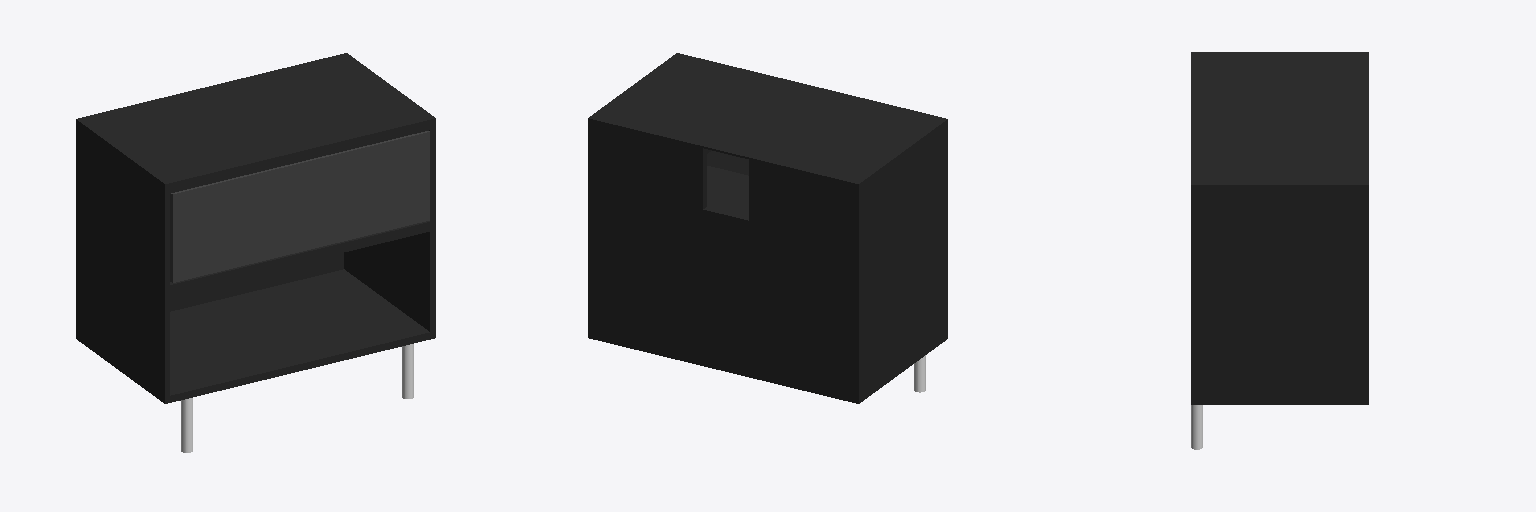
The model's file is Waschtischunterbau.obj.
3 renders of one model, left to right at view 1: azimuth 30°, elevation 25°; view 2: azimuth 150°, elevation 25°; view 3: azimuth 270°, elevation 25°, orthographic.
Visible parts, largest first — view 1: Mesh1 Component_2255 G_11_V3_Waschtischunterbau_dwg1 Model, Mesh5 Component_2256 G_11_V3_Waschtischunterbau_dwg1 Model, Mesh9 Component_2258 G_11_V3_Waschtischunterbau_dwg1 Model, Mesh7 Component_2257 G_11_V3_Waschtischunterbau_dwg1 Model; view 2: Mesh1 Component_2255 G_11_V3_Waschtischunterbau_dwg1 Model, Mesh5 Component_2256 G_11_V3_Waschtischunterbau_dwg1 Model; view 3: Mesh1 Component_2255 G_11_V3_Waschtischunterbau_dwg1 Model, Mesh9 Component_2258 G_11_V3_Waschtischunterbau_dwg1 Model.
Part boxes in pixels (left/top/right/bottom): Mesh1 Component_2255 G_11_V3_Waschtischunterbau_dwg1 Model: left=76, top=53, right=435, bottom=403; Mesh5 Component_2256 G_11_V3_Waschtischunterbau_dwg1 Model: left=170, top=131, right=429, bottom=282; Mesh9 Component_2258 G_11_V3_Waschtischunterbau_dwg1 Model: left=402, top=344, right=413, bottom=398; Mesh7 Component_2257 G_11_V3_Waschtischunterbau_dwg1 Model: left=181, top=398, right=192, bottom=452; Mesh1 Component_2255 G_11_V3_Waschtischunterbau_dwg1 Model: left=588, top=53, right=947, bottom=403; Mesh5 Component_2256 G_11_V3_Waschtischunterbau_dwg1 Model: left=707, top=151, right=748, bottom=175; Mesh1 Component_2255 G_11_V3_Waschtischunterbau_dwg1 Model: left=1191, top=52, right=1368, bottom=404; Mesh9 Component_2258 G_11_V3_Waschtischunterbau_dwg1 Model: left=1191, top=405, right=1202, bottom=449.
Size of the model in its own units: 77.4 by 75 by 44.23.